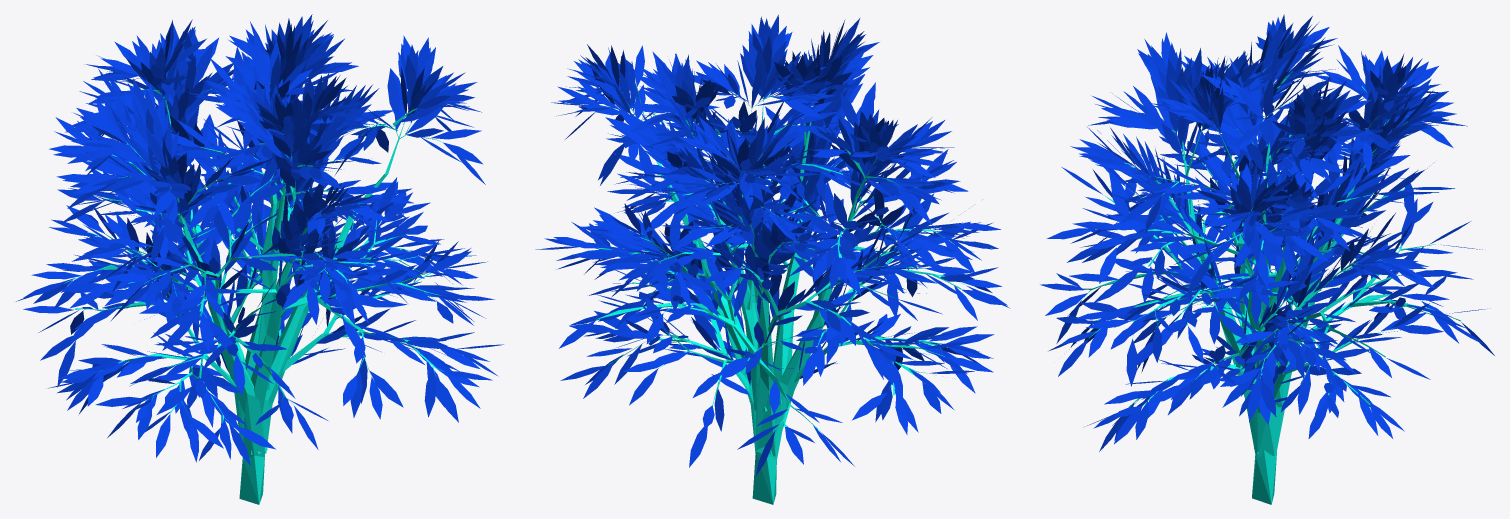
The model's file is Newbluetree(usethisone).fbx.
3 views of the same model, side by side, from view 1: azimuth 30°, elevation 25°; view 2: azimuth 150°, elevation 25°; view 3: azimuth 270°, elevation 25° (orthographic).
Visible parts, largest first — view 1: leaves; view 2: leaves; view 3: leaves.
Part boxes in pixels (bbox=[...]): leaves: bbox=[16, 14, 503, 504]; leaves: bbox=[535, 14, 1009, 504]; leaves: bbox=[1040, 14, 1494, 504].
Bounding box in the file's own units: 567 × 576 × 536.
